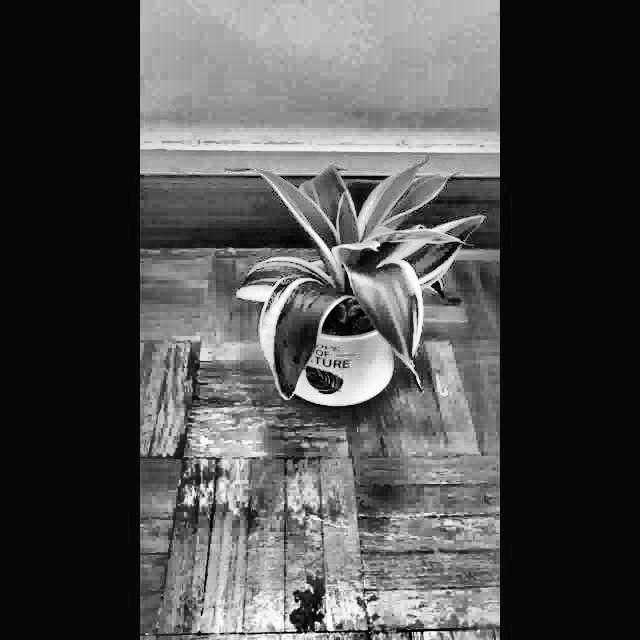plants: (215, 152, 486, 418)
